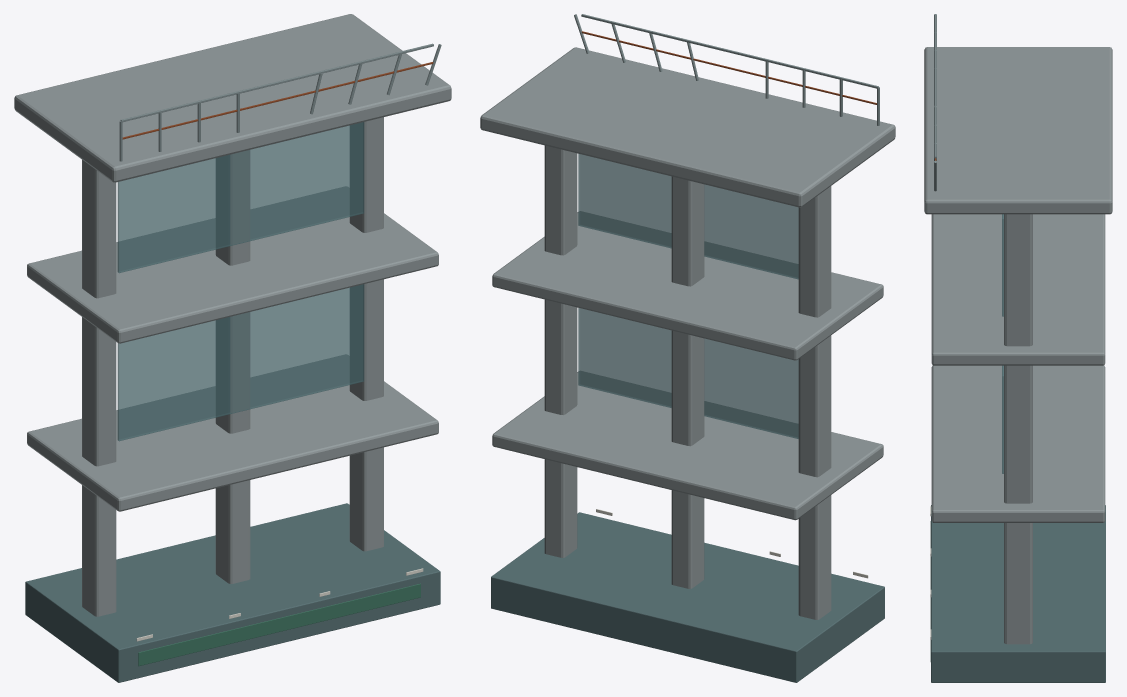
Rendered from SM_FC01_Building_TransitFacade_A.fbx.
3 renders of one model, left to right at view 1: azimuth 30°, elevation 25°; view 2: azimuth 150°, elevation 25°; view 3: azimuth 270°, elevation 25°, orthographic. The views are drawn at different scales.
Visible parts, largest first — view 1: SM_FC01_Building_TransitFacade_A_Roof, SM_FC01_Building_TransitFacade_A_WetBand, SM_FC01_Building_TransitFacade_A_Slab_1, SM_FC01_Building_TransitFacade_A_Slab_2, SM_FC01_Building_TransitFacade_A_Glass_1, SM_FC01_Building_TransitFacade_A_Glass_2, SM_FC01_Building_TransitFacade_A_Pier_1_-3.0, SM_FC01_Building_TransitFacade_A_Pier_2_-3.0, SM_FC01_Building_TransitFacade_A_AlgaeBand, SM_FC01_Building_TransitFacade_A_Pier_0_-3.0, SM_FC01_Building_TransitFacade_A_Pier_1_0, SM_FC01_Building_TransitFacade_A_Pier_1_3.0 (+6 smaller); view 2: SM_FC01_Building_TransitFacade_A_Roof, SM_FC01_Building_TransitFacade_A_WetBand, SM_FC01_Building_TransitFacade_A_Slab_2, SM_FC01_Building_TransitFacade_A_Slab_1, SM_FC01_Building_TransitFacade_A_Glass_1, SM_FC01_Building_TransitFacade_A_Glass_2, SM_FC01_Building_TransitFacade_A_Pier_1_-3.0, SM_FC01_Building_TransitFacade_A_Pier_2_-3.0, SM_FC01_Building_TransitFacade_A_Pier_0_-3.0, SM_FC01_Building_TransitFacade_A_Pier_1_0, SM_FC01_Building_TransitFacade_A_Pier_1_3.0, SM_FC01_Building_TransitFacade_A_Pier_2_0 (+5 smaller); view 3: SM_FC01_Building_TransitFacade_A_Roof, SM_FC01_Building_TransitFacade_A_WetBand, SM_FC01_Building_TransitFacade_A_Slab_1, SM_FC01_Building_TransitFacade_A_Slab_2, SM_FC01_Building_TransitFacade_A_Pier_1_3.0, SM_FC01_Building_TransitFacade_A_Pier_2_3.0, SM_FC01_Building_TransitFacade_A_Pier_0_3.0, SM_FC01_Building_TransitFacade_A_RoofRail_RailTop.
Part boxes in pixels (x1,y1,x2,y2): SM_FC01_Building_TransitFacade_A_Roof: (14, 14, 451, 182); SM_FC01_Building_TransitFacade_A_WetBand: (25, 503, 440, 682); SM_FC01_Building_TransitFacade_A_Slab_1: (27, 354, 438, 511); SM_FC01_Building_TransitFacade_A_Slab_2: (27, 186, 438, 343); SM_FC01_Building_TransitFacade_A_Glass_1: (117, 284, 364, 441); SM_FC01_Building_TransitFacade_A_Glass_2: (117, 122, 364, 273); SM_FC01_Building_TransitFacade_A_Pier_1_-3.0: (82, 317, 116, 466); SM_FC01_Building_TransitFacade_A_Pier_2_-3.0: (82, 160, 116, 298); SM_FC01_Building_TransitFacade_A_AlgaeBand: (138, 583, 420, 666); SM_FC01_Building_TransitFacade_A_Pier_0_-3.0: (82, 485, 116, 616); SM_FC01_Building_TransitFacade_A_Pier_1_0: (215, 312, 250, 433); SM_FC01_Building_TransitFacade_A_Pier_1_3.0: (349, 279, 383, 400); SM_FC01_Building_TransitFacade_A_Roof: (480, 47, 895, 207); SM_FC01_Building_TransitFacade_A_WetBand: (491, 512, 884, 682); SM_FC01_Building_TransitFacade_A_Slab_2: (492, 211, 883, 360); SM_FC01_Building_TransitFacade_A_Slab_1: (492, 371, 883, 520); SM_FC01_Building_TransitFacade_A_Glass_1: (578, 308, 798, 438); SM_FC01_Building_TransitFacade_A_Glass_2: (578, 153, 798, 279); SM_FC01_Building_TransitFacade_A_Pier_1_-3.0: (798, 335, 831, 477); SM_FC01_Building_TransitFacade_A_Pier_2_-3.0: (798, 186, 831, 317); SM_FC01_Building_TransitFacade_A_Pier_0_-3.0: (798, 495, 831, 619); SM_FC01_Building_TransitFacade_A_Pier_1_0: (671, 330, 704, 446); SM_FC01_Building_TransitFacade_A_Pier_1_3.0: (544, 299, 577, 414); SM_FC01_Building_TransitFacade_A_Pier_2_0: (671, 176, 704, 286); SM_FC01_Building_TransitFacade_A_Roof: (924, 47, 1112, 214); SM_FC01_Building_TransitFacade_A_WetBand: (931, 505, 1105, 682); SM_FC01_Building_TransitFacade_A_Slab_1: (931, 365, 1105, 522); SM_FC01_Building_TransitFacade_A_Slab_2: (931, 214, 1105, 365); SM_FC01_Building_TransitFacade_A_Pier_1_3.0: (1004, 365, 1032, 503); SM_FC01_Building_TransitFacade_A_Pier_2_3.0: (1004, 214, 1032, 346); SM_FC01_Building_TransitFacade_A_Pier_0_3.0: (1004, 523, 1032, 644); SM_FC01_Building_TransitFacade_A_RoofRail_RailTop: (934, 14, 936, 158).
Size of the model in its own units: 7.6 by 12 by 3.9.
